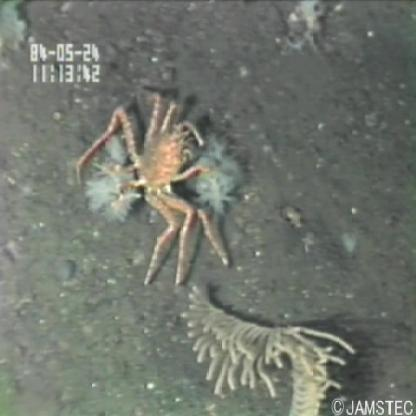Bio: (68, 87, 242, 292), (178, 281, 356, 416)
